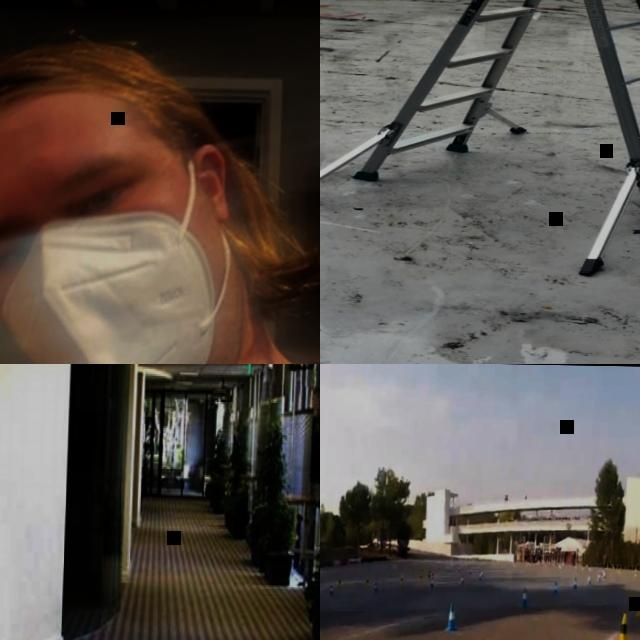Mask: (0, 204, 236, 364)
NO-Hardhat: (0, 28, 180, 168)
Person: (0, 24, 320, 364)
Safety Cone: (444, 597, 460, 635), (614, 612, 634, 640), (520, 584, 529, 611), (553, 578, 559, 600), (636, 596, 640, 619), (374, 580, 379, 597), (329, 583, 334, 600), (572, 577, 578, 591), (400, 573, 405, 587)
